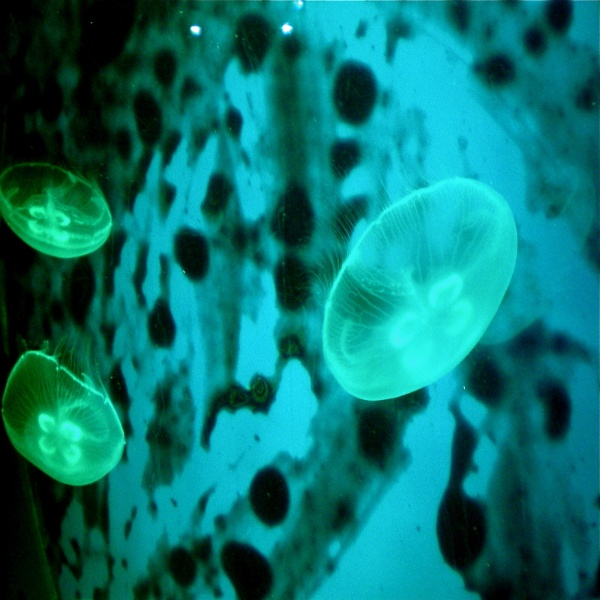Jellyfish: (286, 142, 519, 401), (0, 328, 131, 489), (0, 159, 113, 260)
